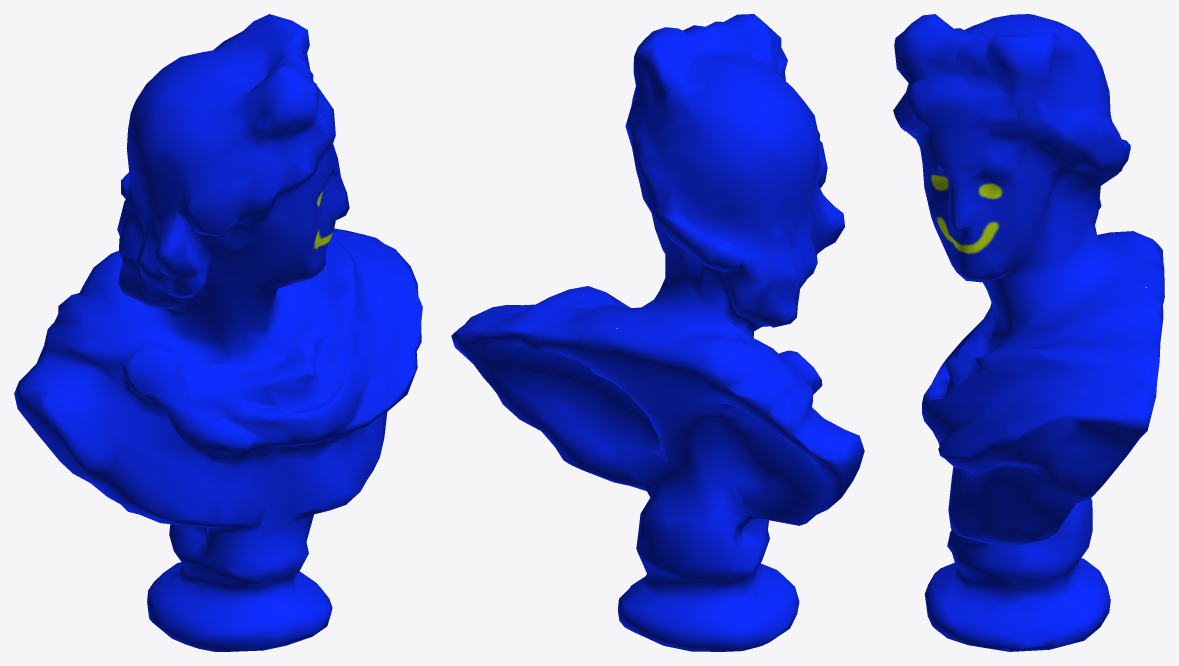
Rendered from bust2.glb.
3 views of the same model, side by side, from view 1: azimuth 30°, elevation 25°; view 2: azimuth 150°, elevation 25°; view 3: azimuth 270°, elevation 25° (orthographic). The views are drawn at different scales.
Visible parts, largest first — view 1: ROMANBUST_low; view 2: ROMANBUST_low; view 3: ROMANBUST_low.
Part boxes in pixels (left/top/right/bottom): ROMANBUST_low: left=14, top=14, right=422, bottom=651; ROMANBUST_low: left=451, top=14, right=864, bottom=651; ROMANBUST_low: left=893, top=14, right=1164, bottom=651.
Bounding box in the file's own units: 1.4 × 2.05 × 0.8338.
Materials: 1 (1 with a texture image).
